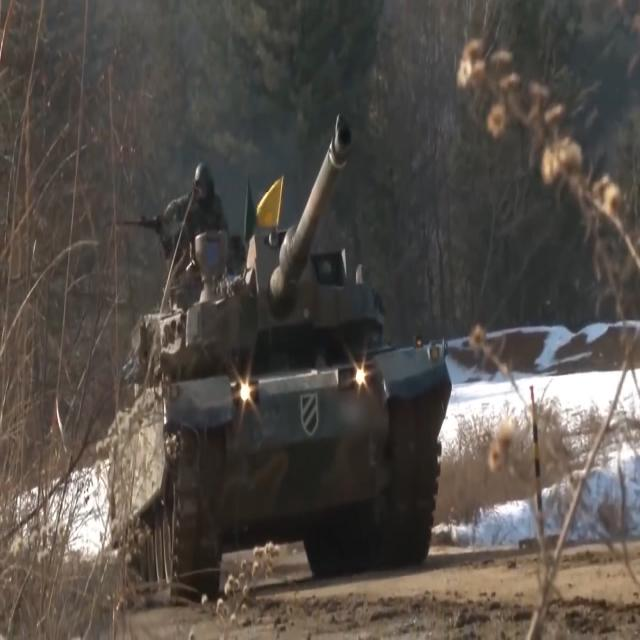korea tank: (109, 111, 453, 609)
